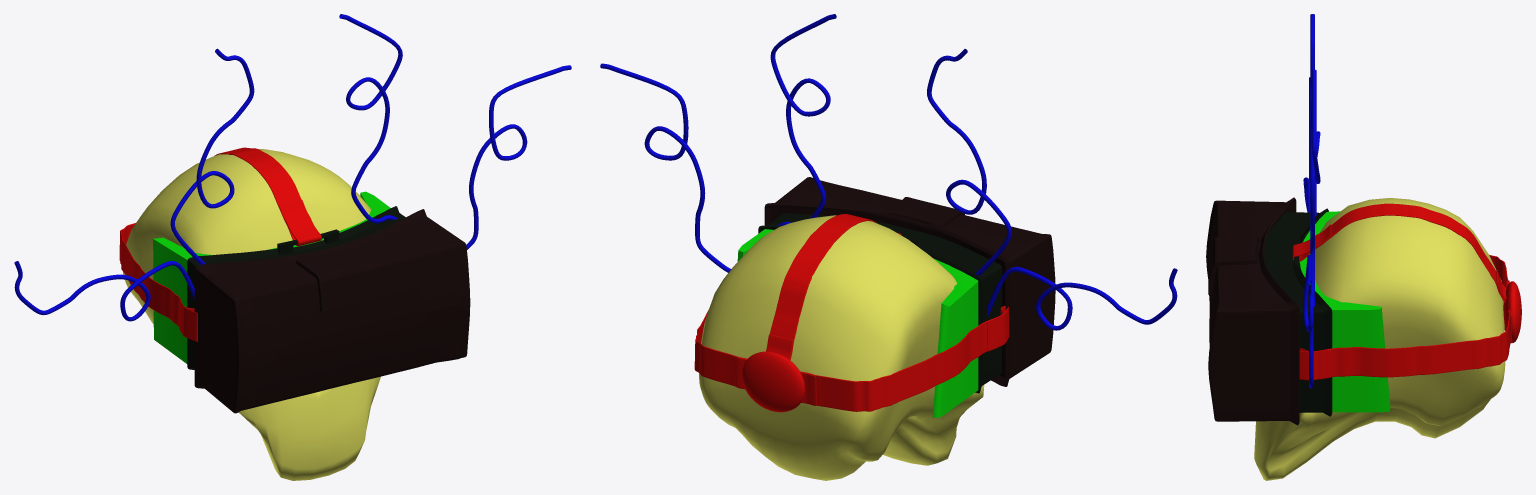
File: NeuralMatrix.fbx
3 renders of one model, left to right at view 1: azimuth 30°, elevation 25°; view 2: azimuth 150°, elevation 25°; view 3: azimuth 270°, elevation 25°, orthographic. The views are drawn at different scales.
Visible parts, largest first — view 1: Neuralmatrix; view 2: Neuralmatrix; view 3: Neuralmatrix.
Part boxes in pixels (box(x1,y1,x2,y2)): Neuralmatrix: box(14, 14, 571, 480); Neuralmatrix: box(600, 14, 1177, 480); Neuralmatrix: box(1206, 14, 1521, 480).
Bounding box in the file's own units: 0.7174 × 0.5342 × 0.3616.
